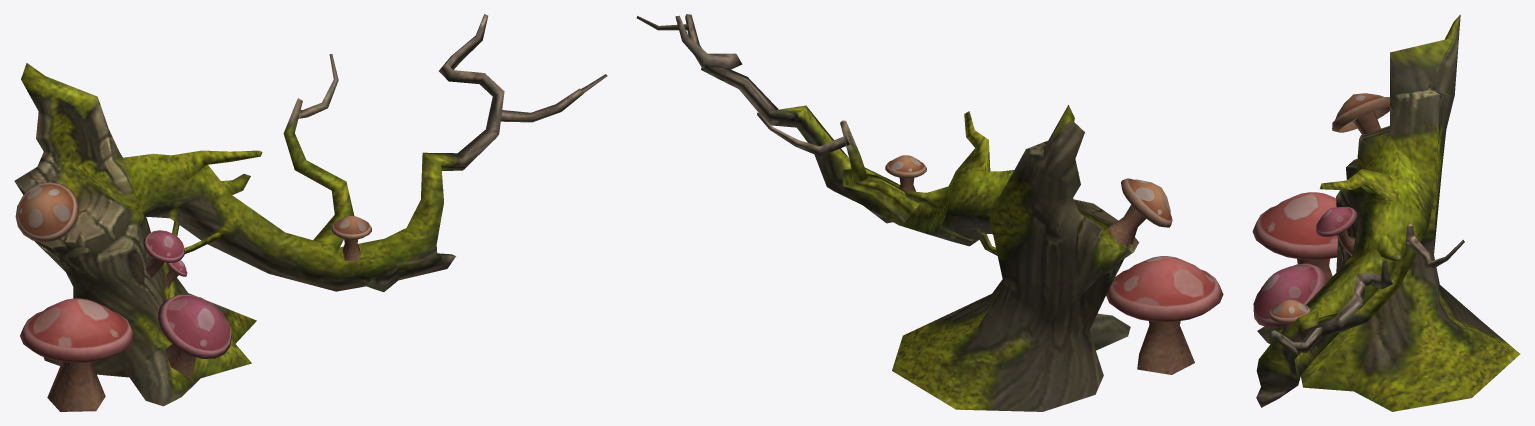
The model's file is Battle01_Plant_06.FBX.
3 renders of one model, left to right at view 1: azimuth 30°, elevation 25°; view 2: azimuth 150°, elevation 25°; view 3: azimuth 270°, elevation 25°, orthographic. The views are drawn at different scales.
Visible parts, largest first — view 1: C01_Plant_06, C01_Plant_06_ncl1_1; view 2: C01_Plant_06, C01_Plant_06_ncl1_1; view 3: C01_Plant_06, C01_Plant_06_ncl1_1.
Boxes of the visible parts, <box> form: C01_Plant_06: <box>14,14,607,406</box>; C01_Plant_06_ncl1_1: <box>15,182,371,411</box>; C01_Plant_06: <box>636,14,1138,411</box>; C01_Plant_06_ncl1_1: <box>885,155,1223,374</box>; C01_Plant_06: <box>1256,14,1520,411</box>; C01_Plant_06_ncl1_1: <box>1252,93,1389,334</box>.
Bounding box in the file's own units: 9.46 × 4.47 × 3.66.
